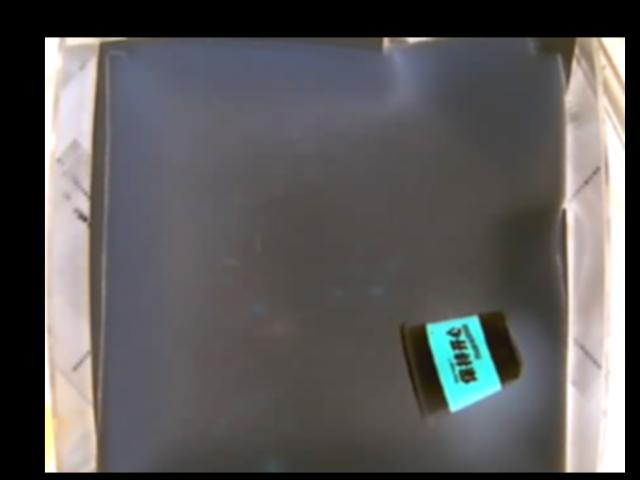Cup: (401, 313, 520, 419)
